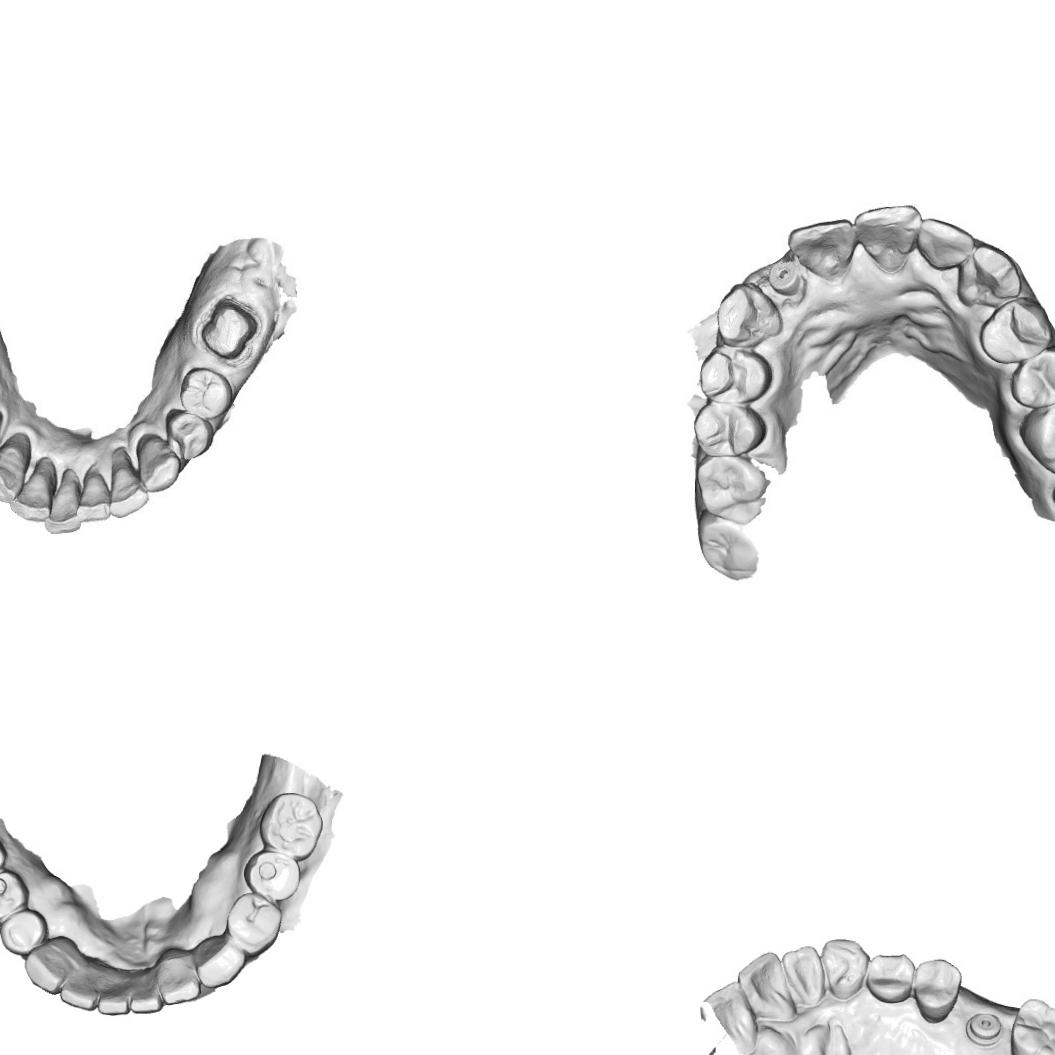canine: (952, 243, 1024, 314), (713, 280, 783, 348), (818, 935, 870, 1003), (24, 934, 78, 996), (196, 934, 246, 989), (138, 438, 179, 492), (0, 442, 28, 509)
crown: (198, 297, 259, 363)
implant: (963, 1008, 1007, 1048), (764, 260, 802, 295)
incisor: (696, 978, 761, 1055), (852, 203, 920, 272), (785, 216, 860, 278), (734, 948, 793, 1024), (916, 216, 976, 274), (778, 942, 826, 1010), (10, 460, 54, 524), (154, 947, 202, 1005), (108, 453, 148, 522), (44, 468, 84, 537), (60, 962, 100, 1012), (80, 469, 112, 524), (128, 970, 164, 1015), (97, 968, 130, 1016)
molar: (691, 456, 771, 524), (258, 792, 324, 862), (1016, 385, 1055, 484), (1008, 994, 1055, 1055)
premolar: (977, 293, 1055, 364), (690, 402, 772, 460), (697, 345, 770, 408), (225, 891, 283, 958), (910, 957, 965, 1025), (241, 848, 300, 902), (1009, 344, 1055, 409), (178, 366, 229, 422), (865, 949, 915, 1006), (167, 410, 216, 458), (0, 907, 48, 956), (0, 868, 30, 923)
